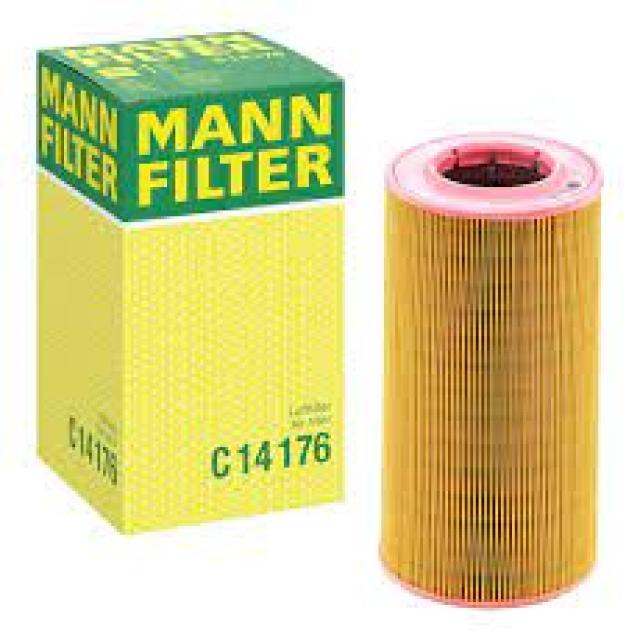oil_filter: (378, 128, 608, 616)
